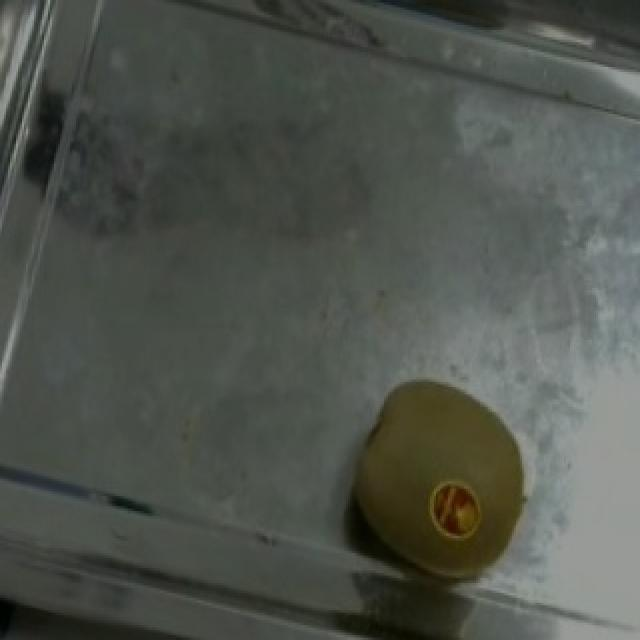Fruit: (316, 365, 556, 583)
